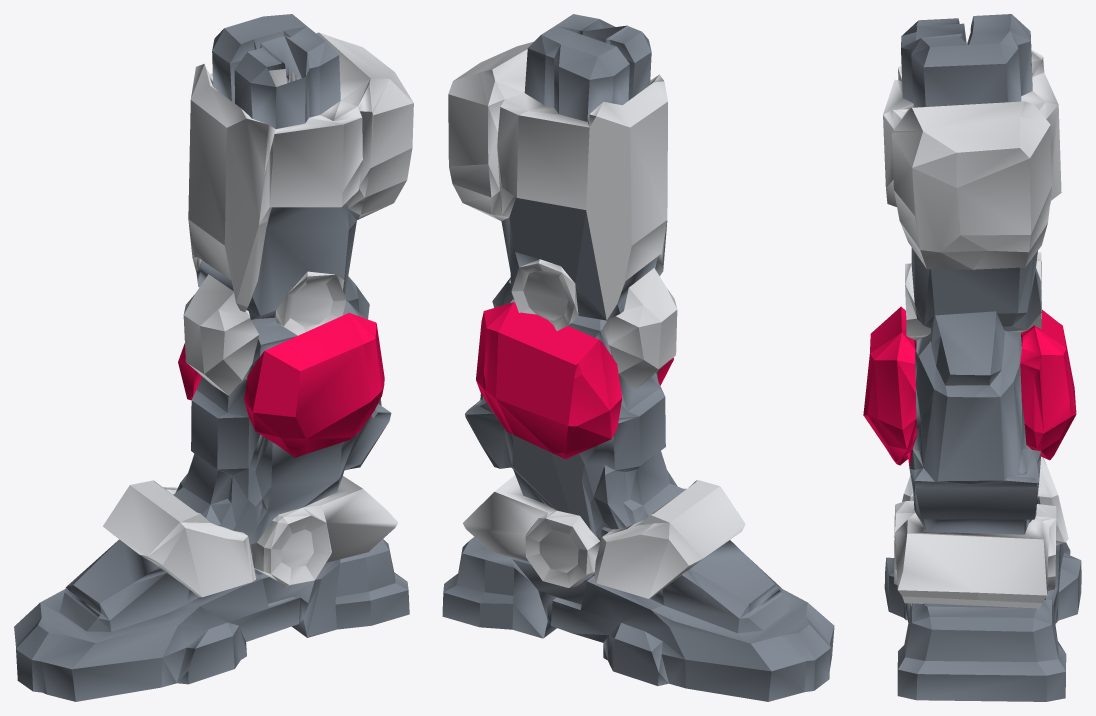
Rendered from Leg_R.fbx.
3 renders of one model, left to right at view 1: azimuth 30°, elevation 25°; view 2: azimuth 150°, elevation 25°; view 3: azimuth 270°, elevation 25°, orthographic. The views are drawn at different scales.
Visible parts, largest first — view 1: UpperRightLeg, LowerRightLeg, RightFoot; view 2: UpperRightLeg, LowerRightLeg, RightFoot; view 3: LowerRightLeg, UpperRightLeg, RightFoot.
Part boxes in pixels (x1=…): UpperRightLeg: x1=188, y1=14, x2=413, y2=335; LowerRightLeg: x1=173, y1=274, x2=398, y2=586; RightFoot: x1=14, y1=480, x2=409, y2=701; UpperRightLeg: x1=448, y1=14, x2=667, y2=330; LowerRightLeg: x1=463, y1=268, x2=685, y2=587; RightFoot: x1=442, y1=479, x2=834, y2=701; LowerRightLeg: x1=863, y1=306, x2=1076, y2=608; UpperRightLeg: x1=883, y1=14, x2=1061, y2=340; RightFoot: x1=884, y1=456, x2=1081, y2=701.
Size of the model in its own units: 849 by 1343 by 418.
